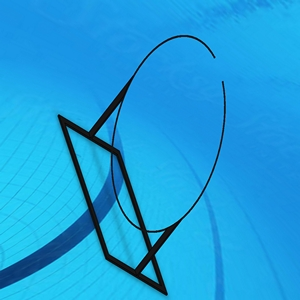circle: (58, 32, 236, 299)
